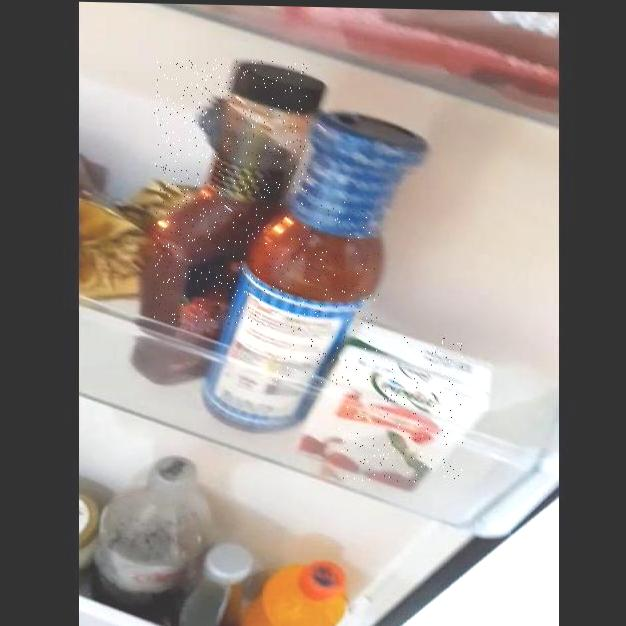cream: (339, 333, 464, 483)
sauce: (154, 58, 308, 326), (260, 196, 379, 385)
